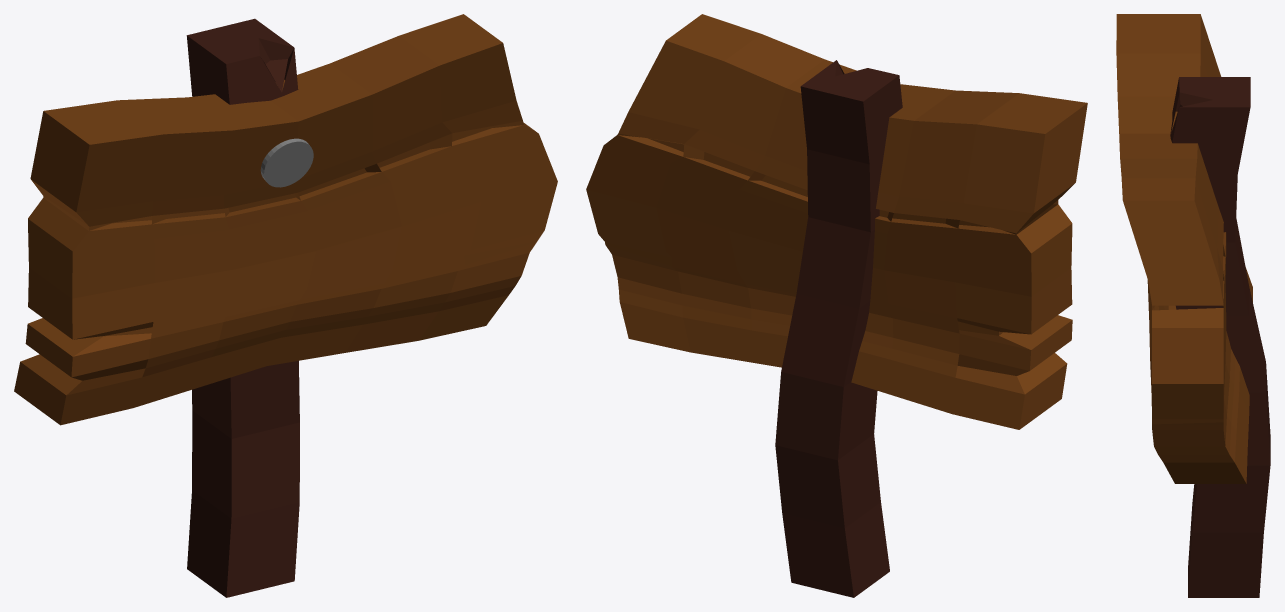
File: sign_post.fbx
3 renders of one model, left to right at view 1: azimuth 30°, elevation 25°; view 2: azimuth 150°, elevation 25°; view 3: azimuth 270°, elevation 25°, orthographic. The views are drawn at different scales.
Parts seen in each view (by area): view 1: Cube.001, Cube, Cylinder; view 2: Cube.001, Cube; view 3: Cube.001, Cube.
Boxes of the visible parts, x1=… form: Cube.001: x1=14, y1=14, x2=557, y2=425; Cube: x1=186, y1=18, x2=299, y2=597; Cylinder: x1=260, y1=138, x2=313, y2=187; Cube.001: x1=586, y1=14, x2=1087, y2=429; Cube: x1=775, y1=60, x2=902, y2=597; Cube.001: x1=1116, y1=14, x2=1252, y2=483; Cube: x1=1170, y1=77, x2=1270, y2=597.
Size of the model in its own units: 143 by 151 by 43.12.
